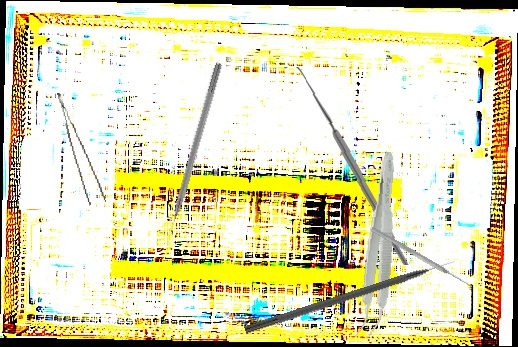Hook Surgical: (277, 66, 418, 266), (243, 258, 458, 336)
Pusher: (161, 61, 223, 247), (369, 225, 474, 290)
Tissue Forceps: (353, 150, 402, 341), (57, 87, 106, 208)
